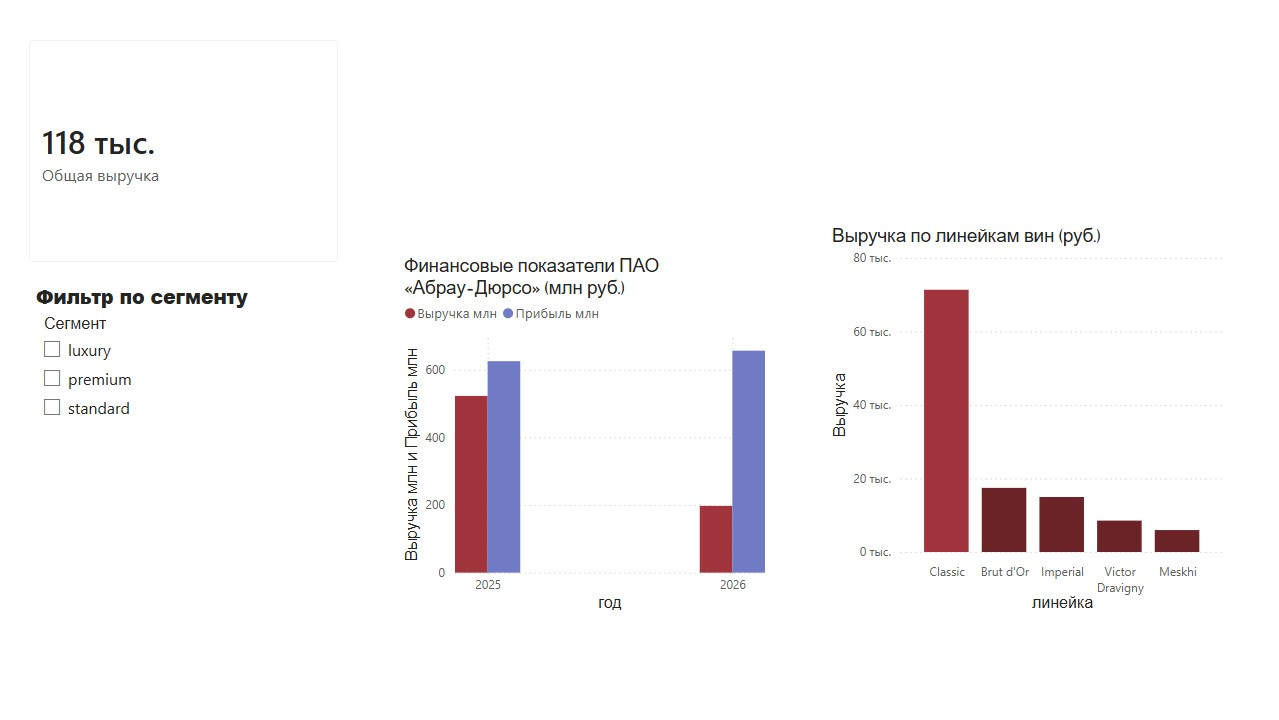

The page's visual inventory and layout, read from the dashboard file:
{"tool":"powerbi","page":{"name":"Страница 1","canvas":[1280,720],"ordinal":0},"visuals":[{"type":"slicer","title":"Фильтр по сегменту","fields":{"Values":["wines.segment"]},"box":[28,279,247,276],"z":0},{"type":"clusteredColumnChart","title":"   Финансовые показатели ПАО «Абрау-Дюрсо» (млн руб.)","fields":{"Category":["financials.year"],"Y":["financials.Выручка млн","financials.Прибыль млн"]},"box":[400,255,371,361],"z":1000},{"type":"clusteredColumnChart","title":"Выручка по линейкам вин (руб.)","fields":{"Category":["wines.line"],"Y":["sales.Выручка"]},"box":[828,225,402,391],"z":2000},{"type":"cardVisual","fields":{"Data":["sales.Выручка"]},"box":[13,23,343,256],"z":3000}]}

Visuals, with their boxes in screenshot pixels (x1, y1, x2, y2), scaled from the page's 1280x720 canvas onto the 1279x720 screenshot:
"Фильтр по сегменту" slicer: region(28, 279, 275, 555)
"   Финансовые показатели ПАО «Абрау-Дюрсо» (млн руб.)" clusteredColumnChart: region(400, 255, 770, 616)
"Выручка по линейкам вин (руб.)" clusteredColumnChart: region(827, 225, 1229, 616)
cardVisual - sales.Выручка: region(13, 23, 356, 279)
